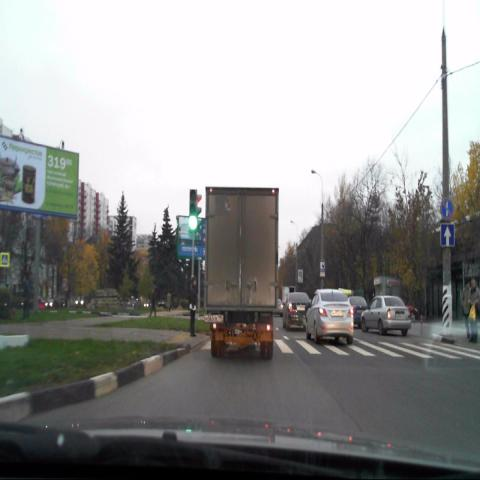3_29: (440, 198, 454, 219)
5_19_1: (0, 253, 9, 266)
5_5: (440, 223, 454, 247)
